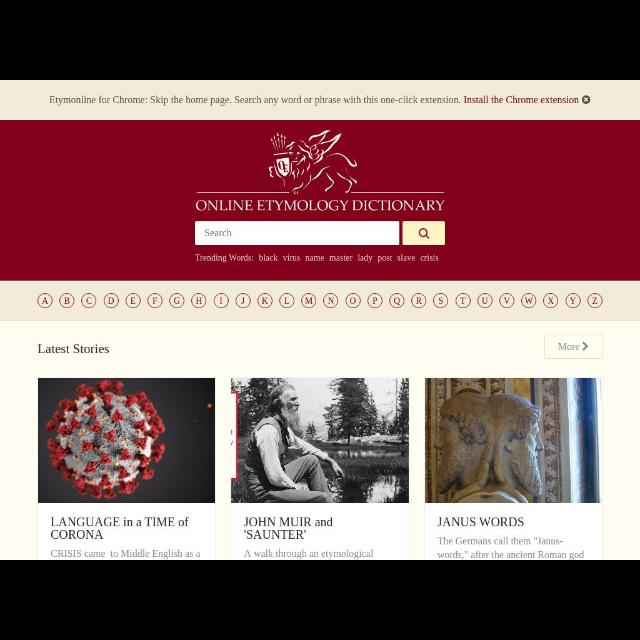backgroundimage: (1, 120, 640, 280)
button: (545, 334, 603, 358), (403, 222, 445, 244)
icon: (81, 292, 97, 308), (168, 292, 184, 308), (191, 292, 207, 308), (213, 292, 229, 308), (235, 292, 251, 308), (279, 292, 295, 308), (300, 292, 316, 308), (323, 292, 339, 308), (411, 292, 427, 308), (432, 292, 448, 308), (455, 292, 471, 308), (477, 292, 493, 308), (499, 292, 515, 308), (542, 292, 558, 308), (587, 292, 603, 308), (37, 294, 53, 308), (59, 294, 75, 308), (103, 294, 119, 308), (125, 294, 141, 308), (147, 294, 163, 308), (257, 294, 273, 308), (345, 294, 361, 308), (367, 294, 383, 308), (389, 294, 405, 308), (521, 294, 537, 308), (565, 294, 581, 308), (418, 228, 429, 240), (582, 95, 590, 105), (582, 341, 590, 351)
image: (232, 378, 410, 504), (426, 378, 602, 504), (39, 379, 215, 503)
input: (196, 221, 400, 245)
text: (49, 95, 579, 107), (194, 199, 446, 213), (196, 198, 444, 212), (50, 516, 190, 540), (437, 537, 588, 559), (193, 252, 439, 264), (243, 516, 333, 540), (50, 548, 202, 560), (243, 549, 373, 559), (437, 516, 525, 528), (36, 344, 110, 354), (204, 228, 232, 238), (558, 342, 580, 352)
